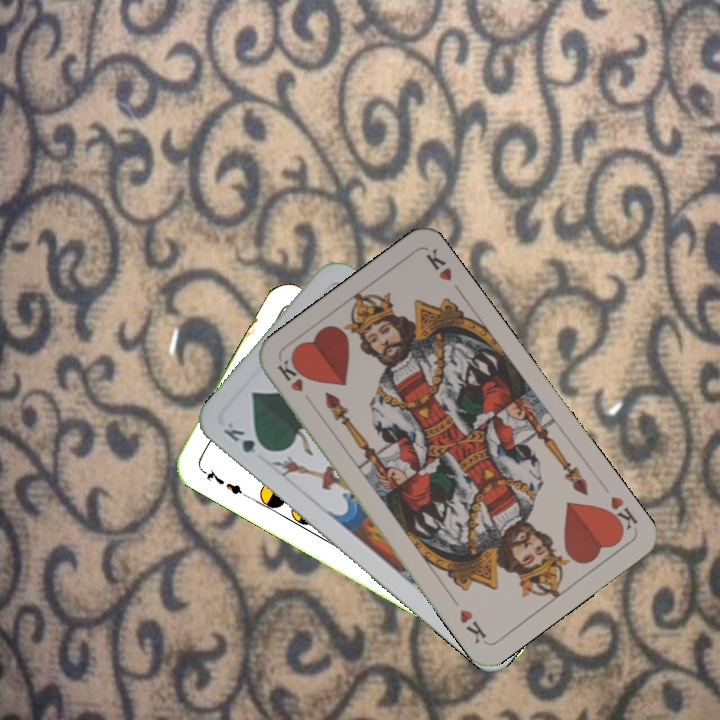E7: (196, 464, 250, 500)
GK: (219, 418, 273, 456)
HK: (599, 492, 641, 537), (273, 355, 306, 395)
